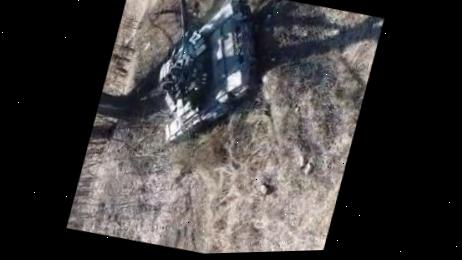tank: (125, 0, 278, 158)
